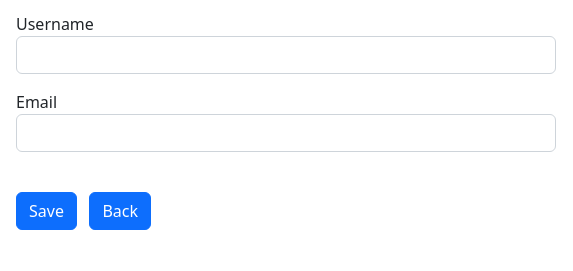
Scenario: edit profile validation test
The image size is (573, 271).
Click the button with test id "editBtnTest": click(46, 211) x1=16 y1=192 x2=77 y2=230
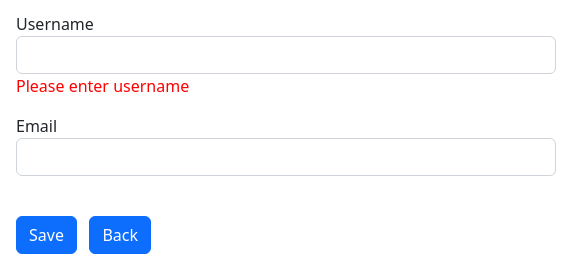
Check: the text with test id "invalidUsernameTest" reads "Please enter username", box x1=16 y1=75 x2=189 y2=97
